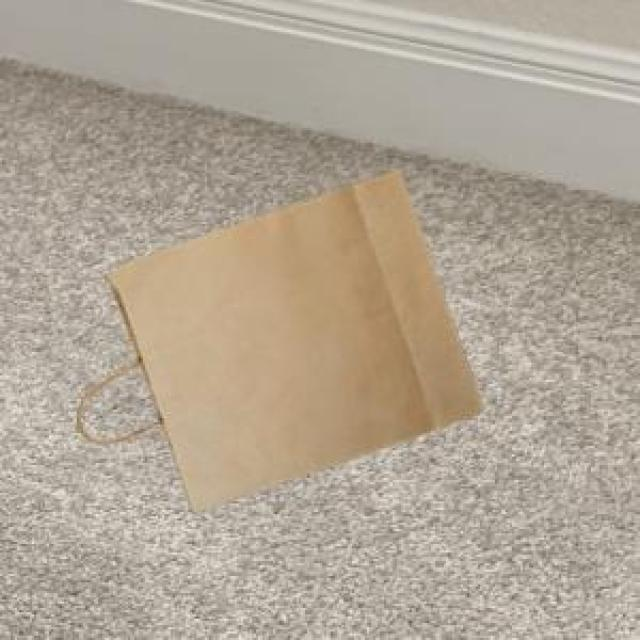paper: (73, 166, 478, 508)
